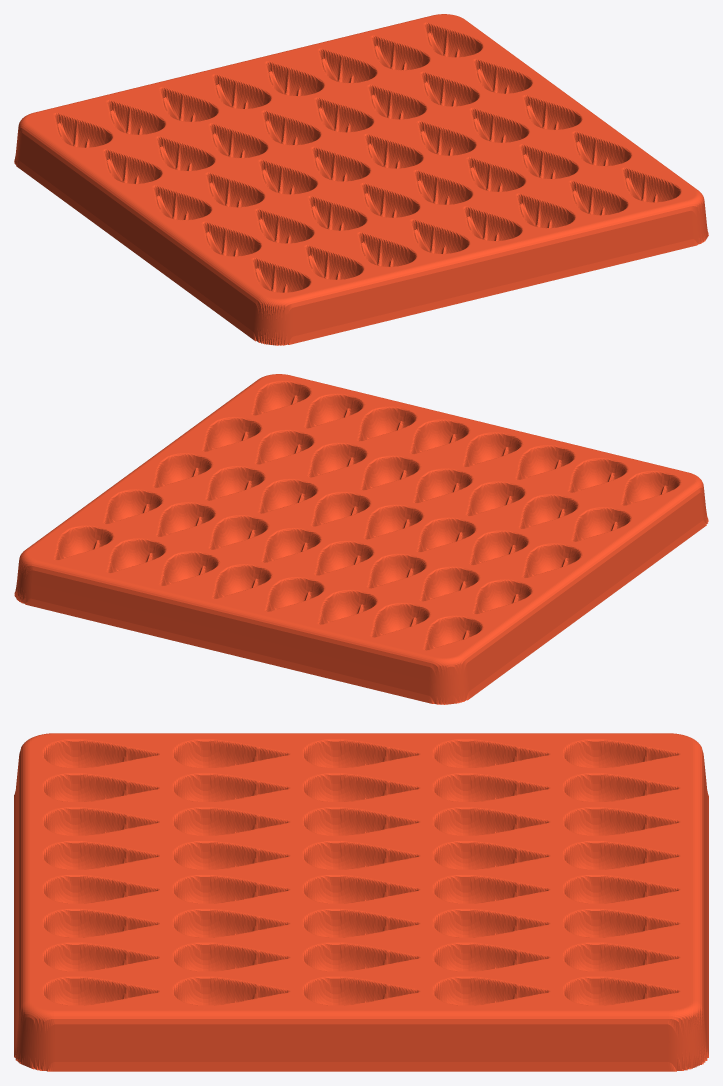
File: mold.glb
The picture shows the model from 3 angles, top to bottom: view 1: azimuth 30°, elevation 25°; view 2: azimuth 150°, elevation 25°; view 3: azimuth 270°, elevation 25°; orthographic projection. The views are drawn at different scales.
Parts seen in each view (by area): view 1: geometry_0; view 2: geometry_0; view 3: geometry_0.
Part boxes in pixels (x1,y1,x2,y2): geometry_0: (14, 14, 708, 345); geometry_0: (14, 374, 708, 704); geometry_0: (14, 733, 708, 1071).
Size of the model in its own units: 0.155 by 0.0136 by 0.1571.
